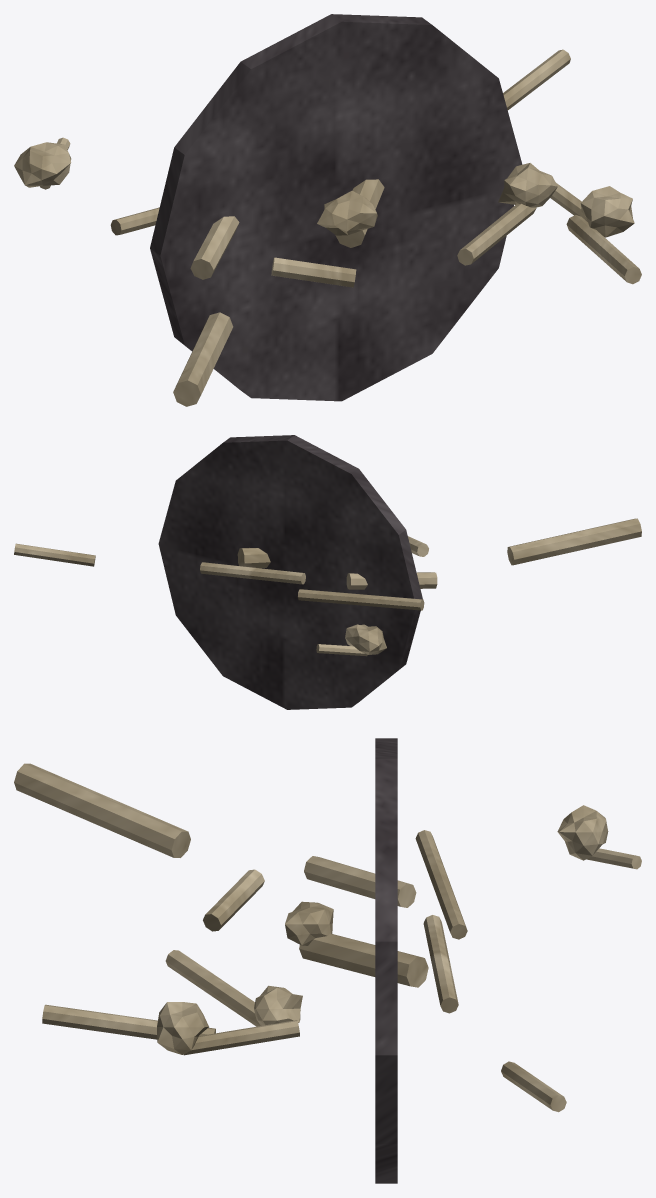
File: 0235_bone_heap_10.glb
3 renders of one model, top to bottom at view 1: azimuth 30°, elevation 25°; view 2: azimuth 150°, elevation 25°; view 3: azimuth 270°, elevation 25°, orthographic. The views are drawn at different scales.
Visible parts, largest first — view 1: ash, bone; view 2: ash, bone; view 3: bone, ash.
Part boxes in pixels (x1=…): ash: x1=150, y1=14, x2=522, y2=401; bone: x1=14, y1=49, x2=641, y2=406; ash: x1=158, y1=435, x2=422, y2=709; bone: x1=14, y1=518, x2=641, y2=656; bone: x1=14, y1=763, x2=641, y2=1112; ash: x1=375, y1=738, x2=397, y2=1183.
Bounding box in the file's own units: 2.82 × 1.6 × 2.25.
2 materials, 2 textured.
